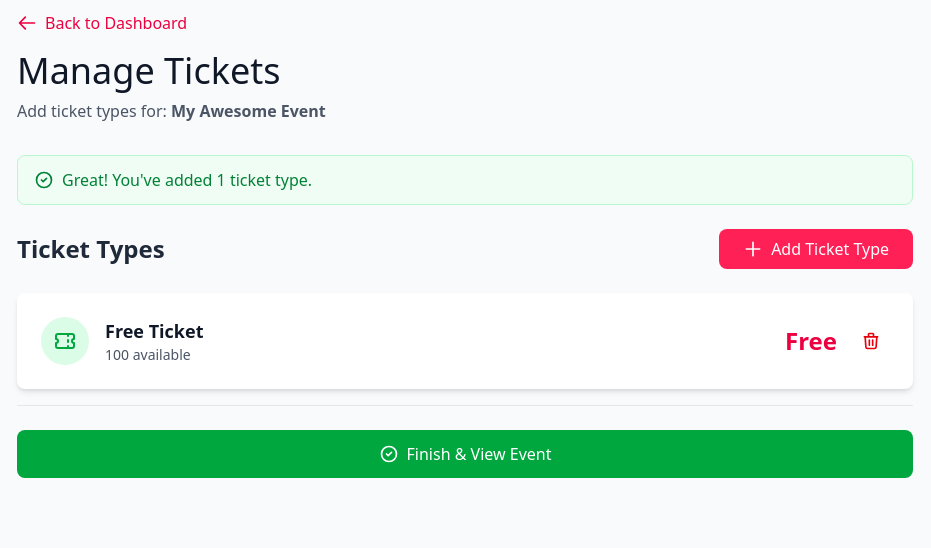
Scenario: AddTickets Page › should allow an organizer to delete a ticket
This screenshot has width=931, height=548.
What coordinates should you click on to do the following:
click the button titled "Delete ticket type"
I would click on:
 (871, 341)
Its box is [853,323,889,359].
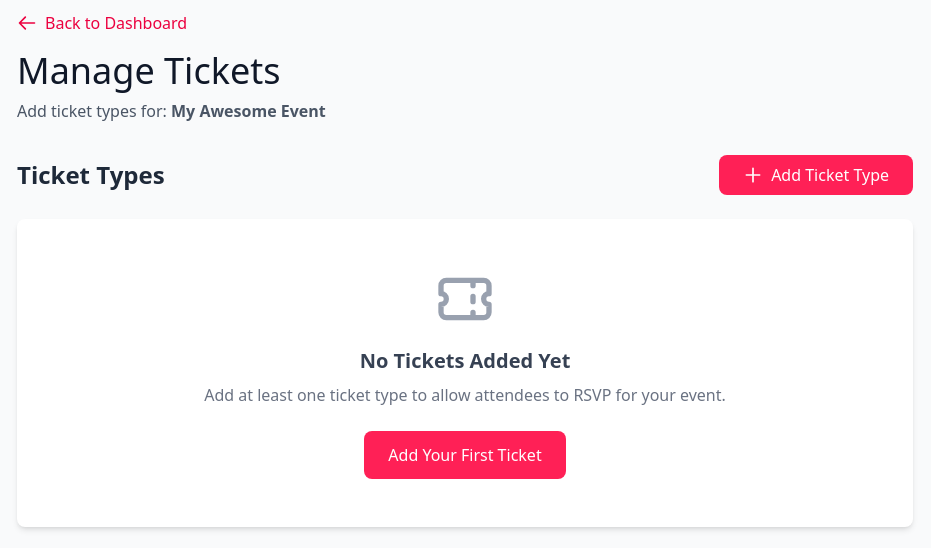
Expected: the heading "No Tickets Added Yet" is shown, [360,347,570,374]
